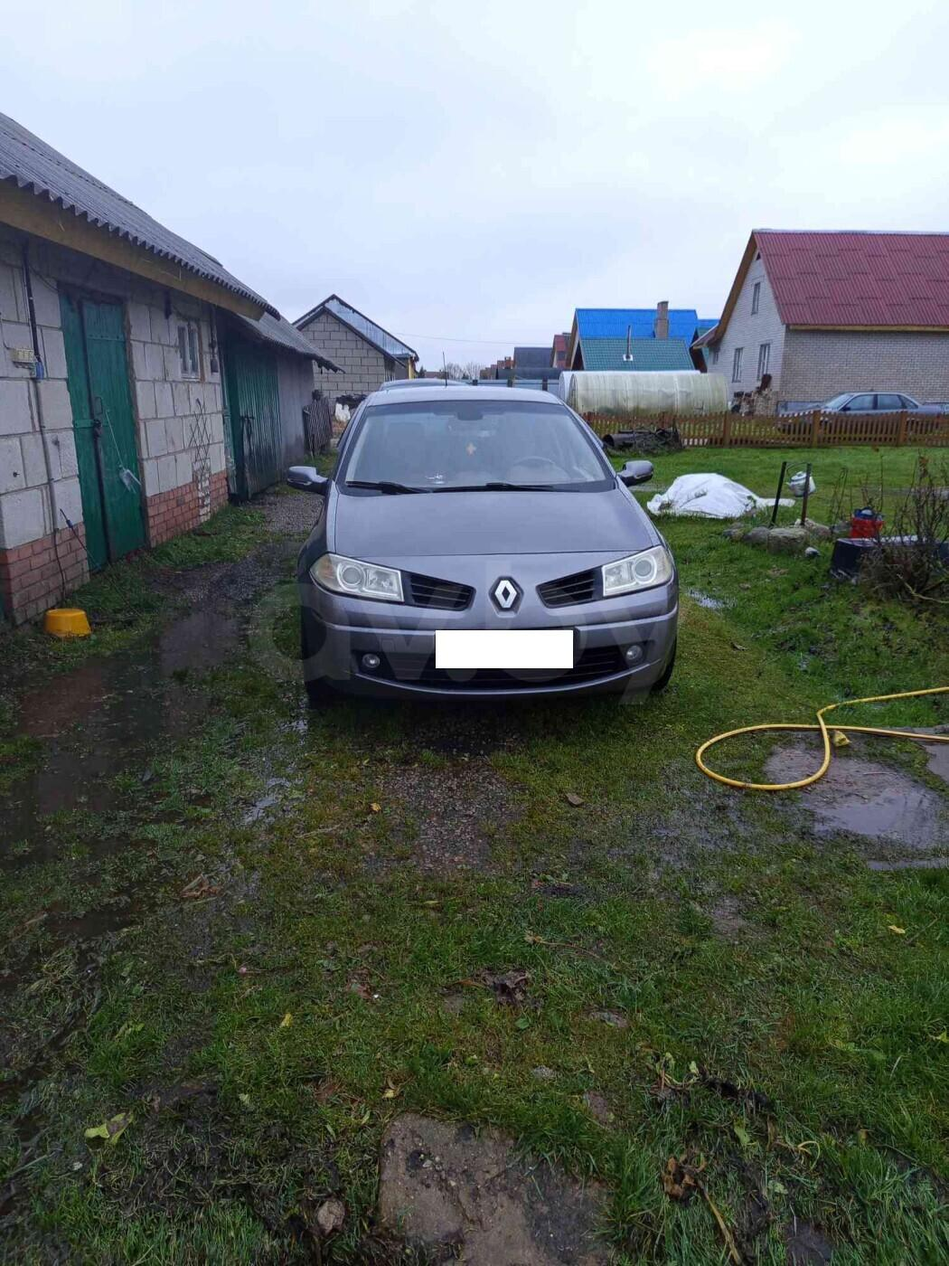Megane_2005-2009: (307, 374, 687, 727)
